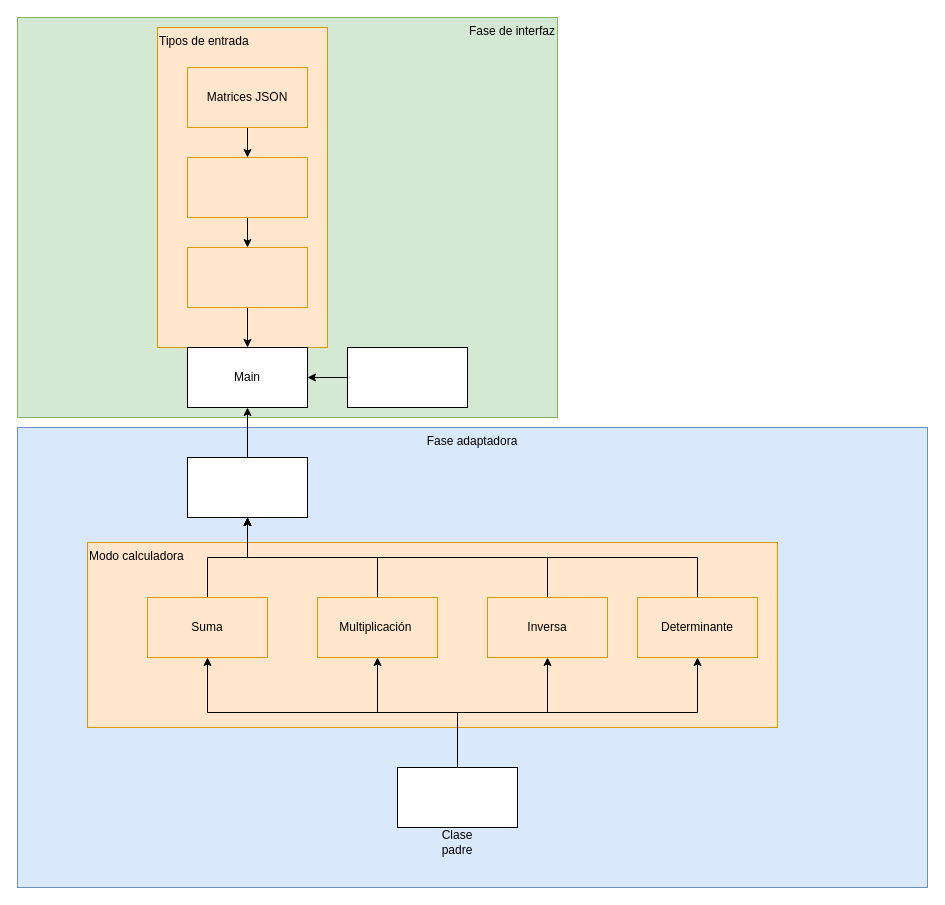
Image size: 945x905. Some labels were removed from this diagram. The shapes that lost their labels are listed below. From the top down, each one's centre as x and y in pixels, then its label:
At (x=247, y=187): "JSON carga".
At (x=247, y=277): "matrices_carga".
At (x=407, y=377): "Typer CLI".
At (x=247, y=487): "Calculadora".
At (x=457, y=797): "Operaciones".
